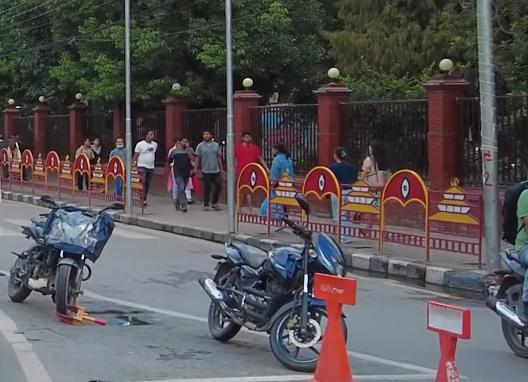bike: (194, 195, 351, 371), (7, 189, 130, 315)
